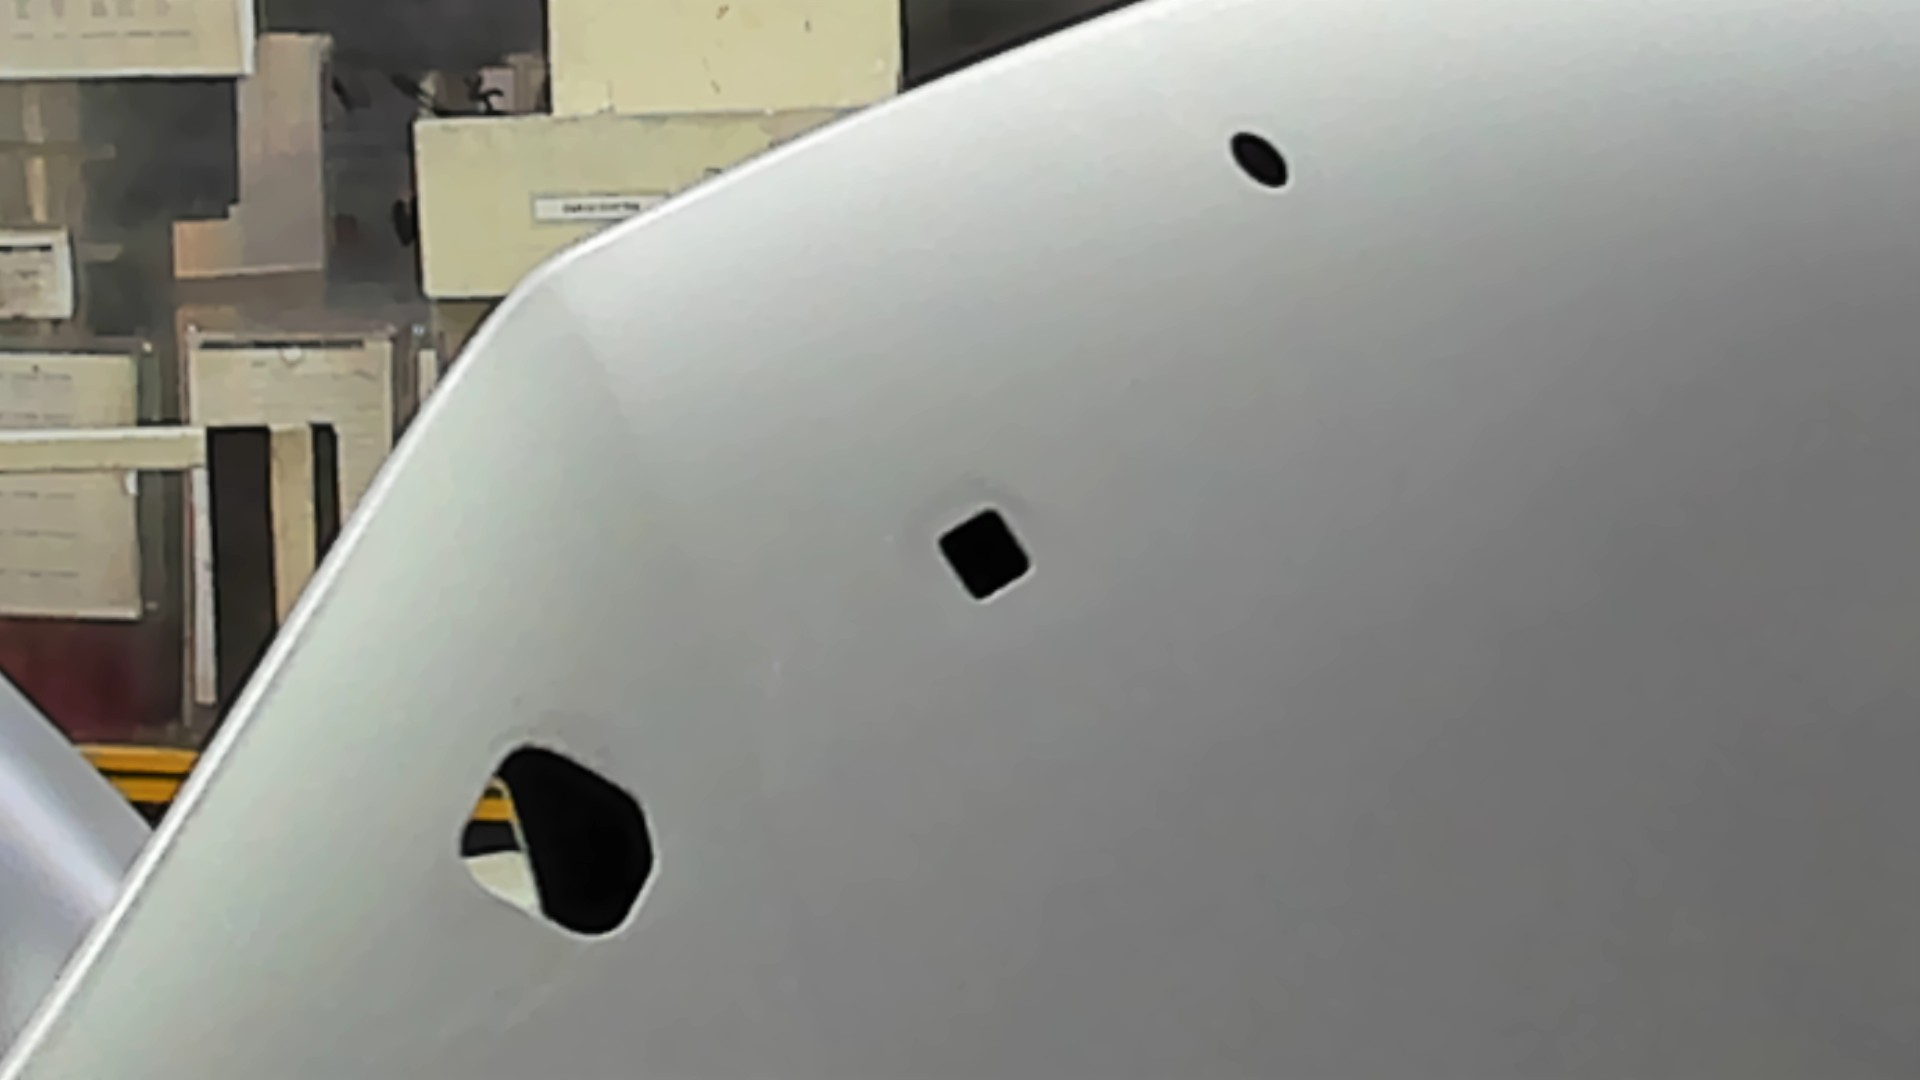chico: (1224, 124, 1295, 191)
grande: (452, 735, 663, 949)
mediano: (928, 496, 1042, 611)
